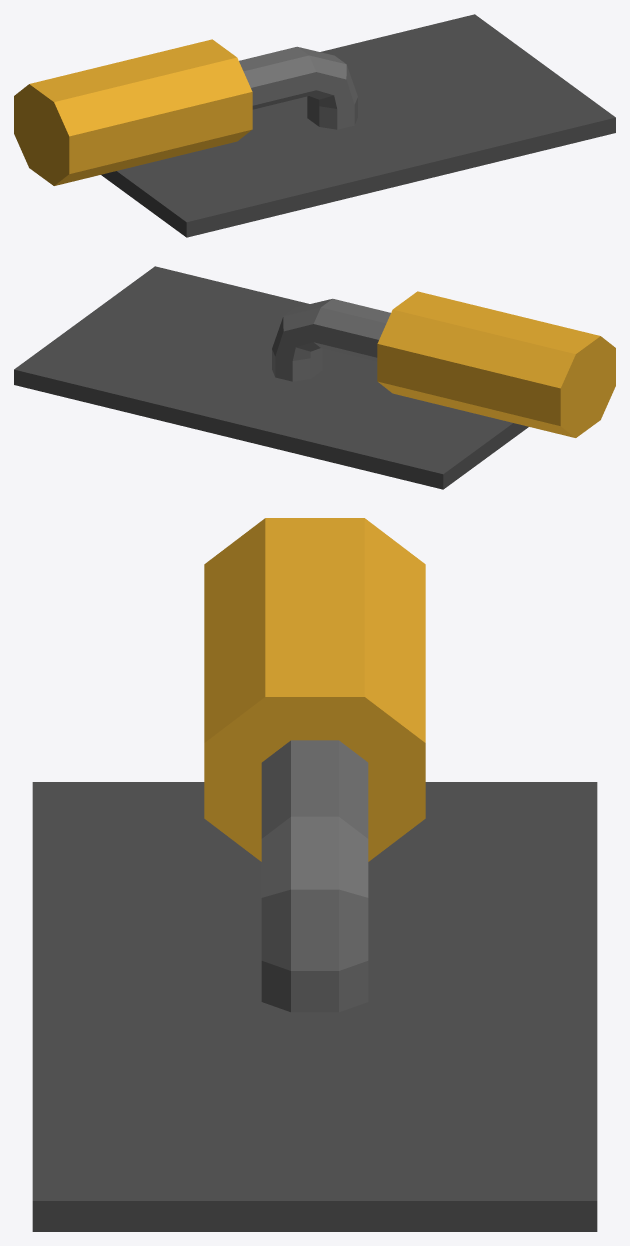
3 views of the same model, one above another, from view 1: azimuth 30°, elevation 25°; view 2: azimuth 150°, elevation 25°; view 3: azimuth 270°, elevation 25° (orthographic). The views are drawn at different scales.
Parts seen in each view (by area): view 1: F-4; view 2: F-4; view 3: F-4.
Part boxes in pixels (box(x1,y1,x2,y2)): F-4: box(14, 14, 615, 237); F-4: box(14, 266, 615, 489); F-4: box(32, 518, 597, 1231).
Size of the model in its own units: 68.73 by 14.49 by 33.34.
